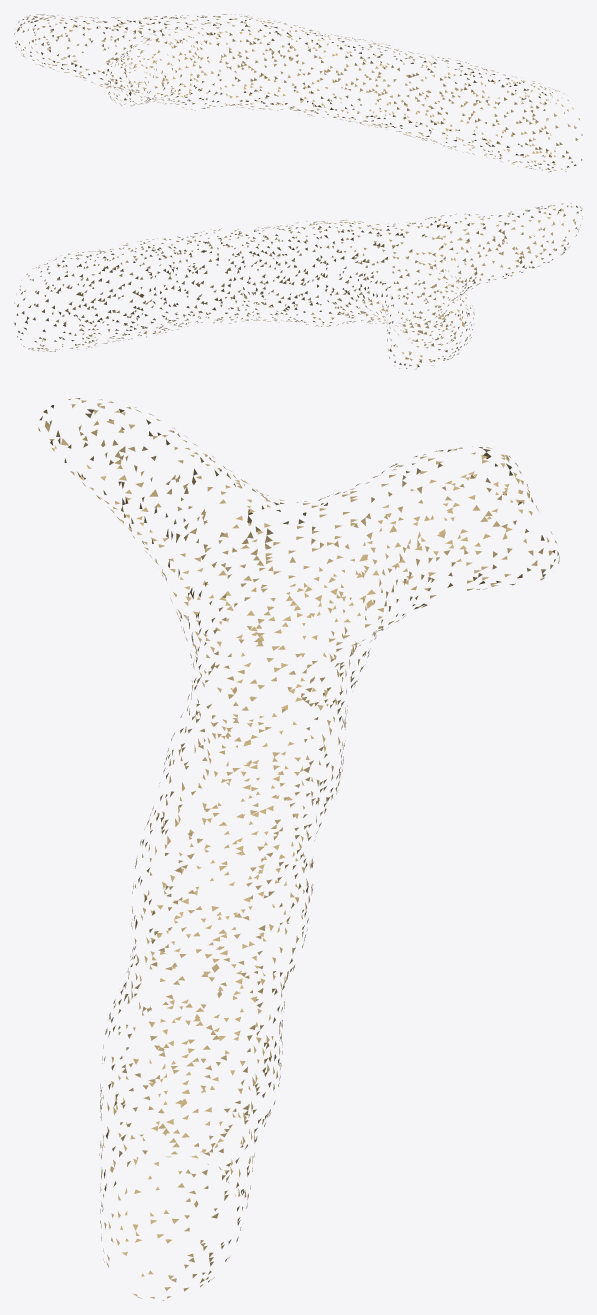
File: morph_007.glb
The picture shows the model from 3 angles, top to bottom: view 1: azimuth 30°, elevation 25°; view 2: azimuth 150°, elevation 25°; view 3: azimuth 270°, elevation 25°; orthographic projection. The views are drawn at different scales.
Bounding box in the file's own units: 105 × 48.61 × 50.51.
